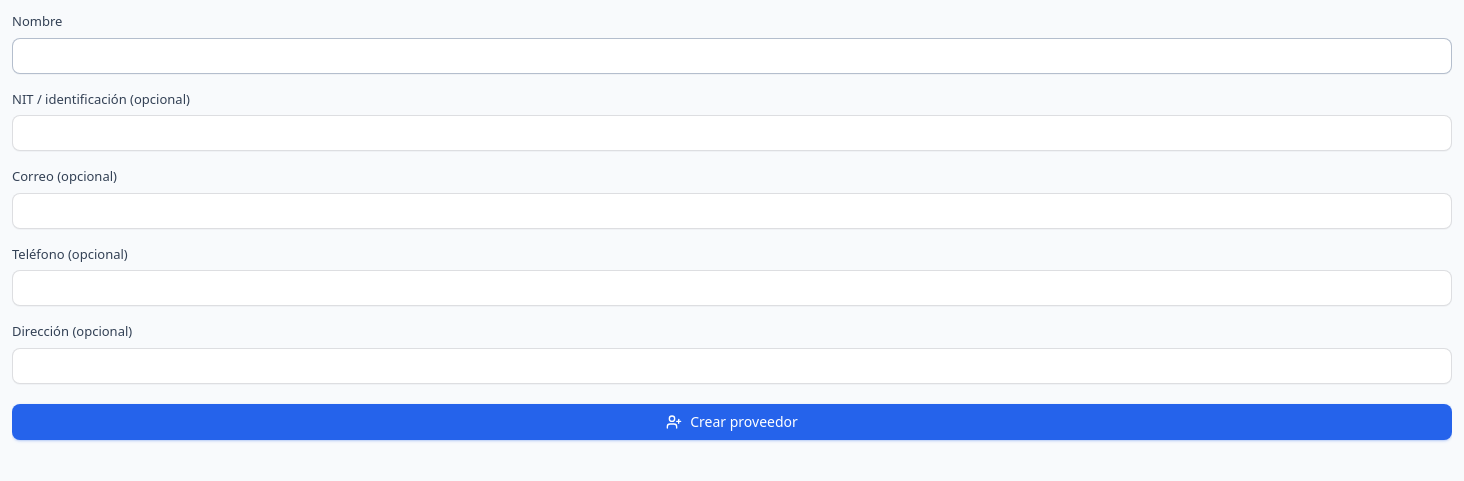
Test case: SupplierForm › rejects an invalid email but allows an empty one
Type "Proveedor Nuevo" into the field labelled "Nombre". click: (732, 56)
box: [12,38,1452,74]
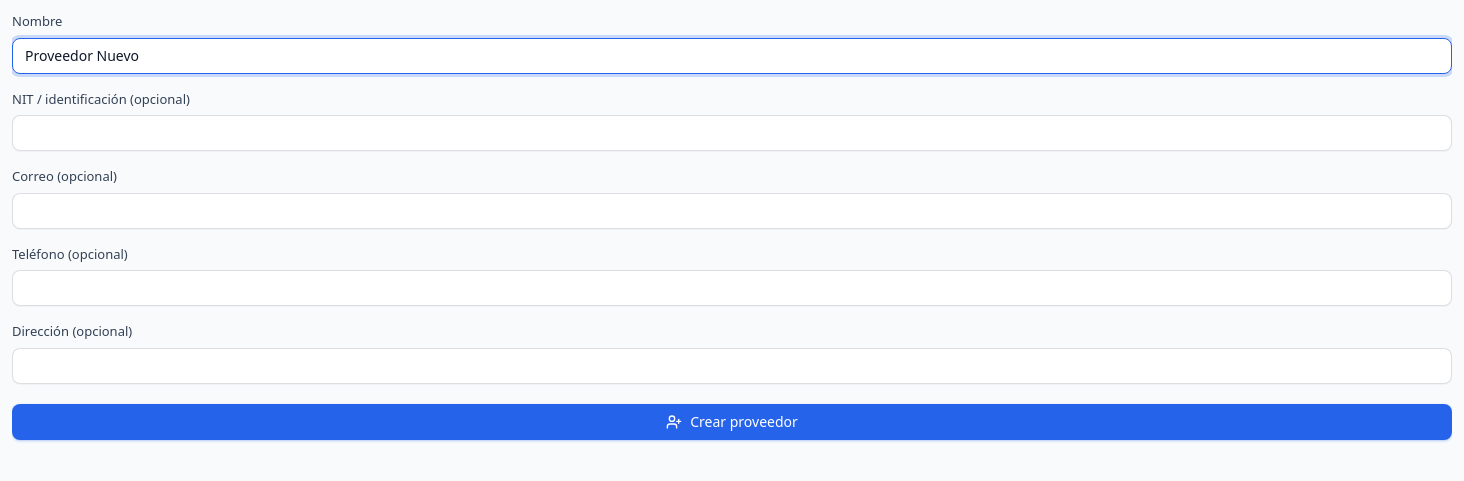
Type "no-es-correo" into the field labelled "Correo (opcional)". click: (732, 210)
box: [12,192,1452,228]
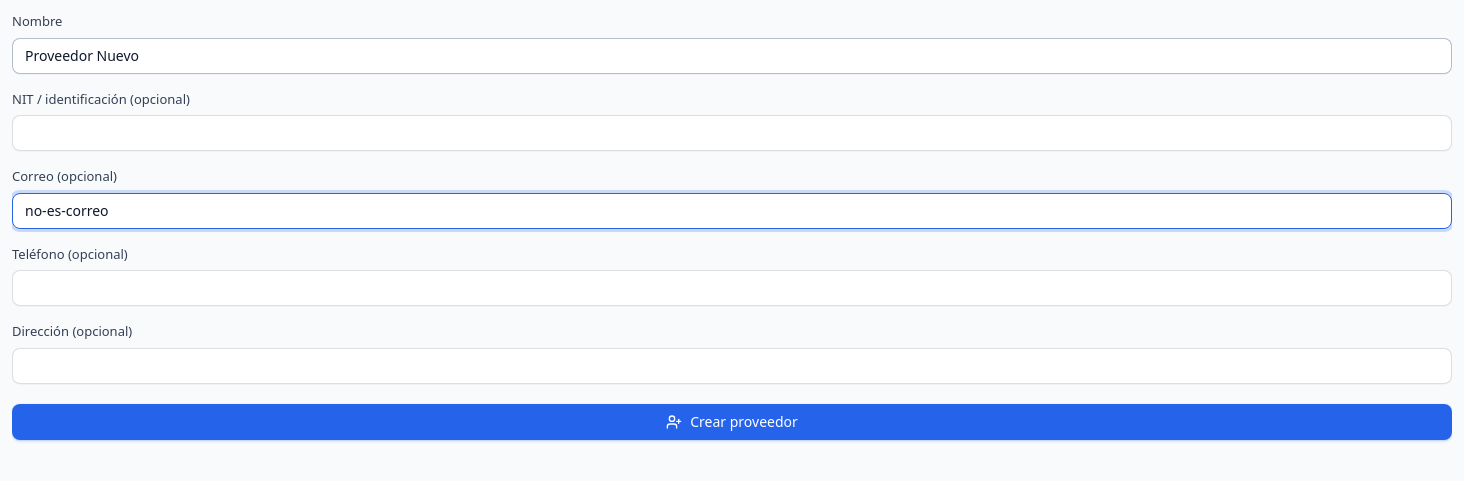
Click the button "Crear proveedor". click: (732, 422)
box: [12,404,1452,440]
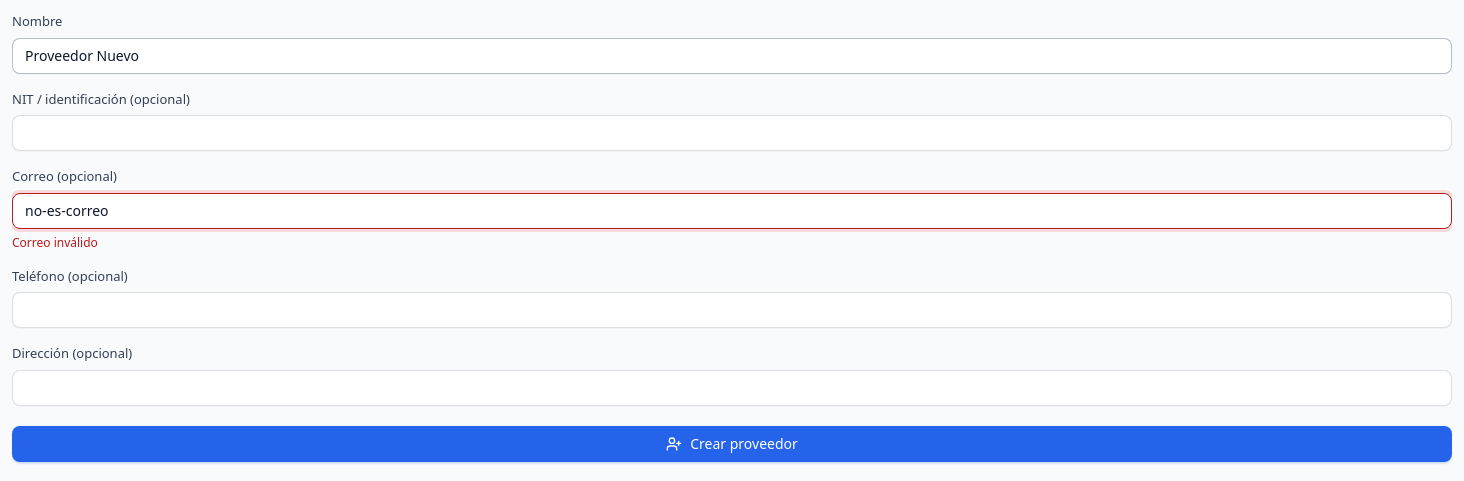
Expected: the text "Correo inválido" is shown, [12,234,98,250]
